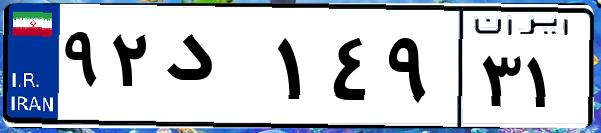1: (270, 28, 330, 110), (525, 38, 570, 115)
2: (110, 28, 158, 98)
3: (475, 38, 525, 113)
4: (330, 28, 385, 110)
9: (385, 28, 445, 110), (57, 26, 110, 100)
د: (158, 20, 270, 120)
